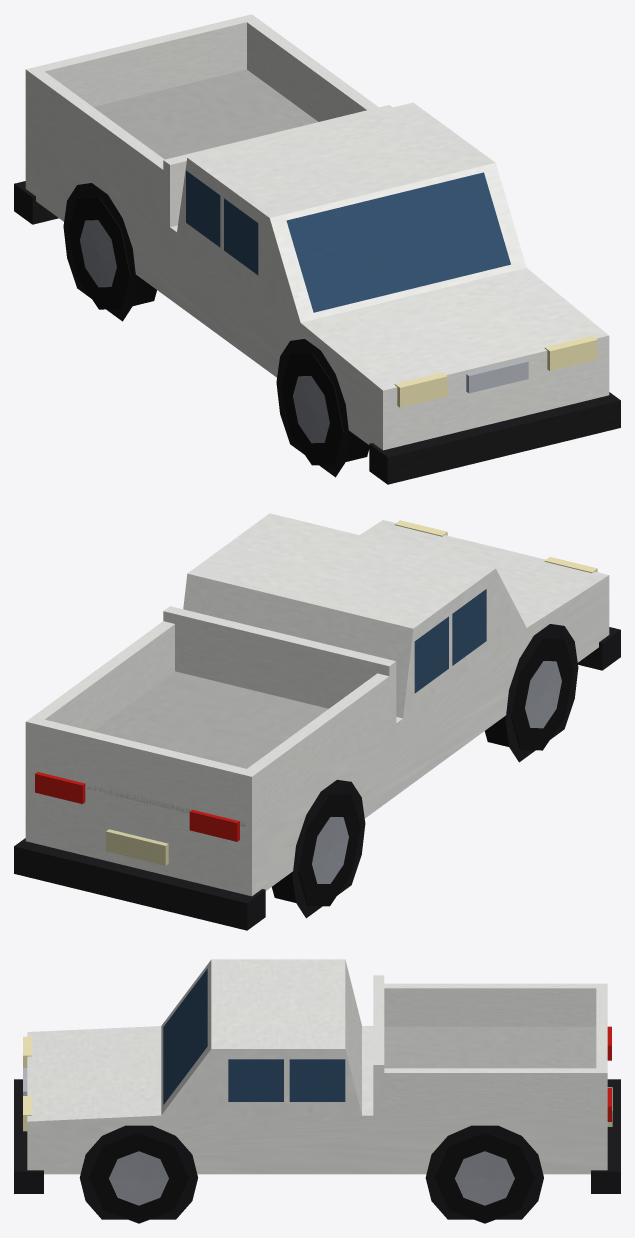
Rendered from pickup-white-far.glb.
The picture shows the model from 3 angles, top to bottom: view 1: azimuth 30°, elevation 25°; view 2: azimuth 150°, elevation 25°; view 3: azimuth 270°, elevation 25°; orthographic projection. The views are drawn at different scales.
Visible parts, largest first — view 1: pickup-white-far; view 2: pickup-white-far; view 3: pickup-white-far.
Boxes of the visible parts, bbox=[...] form: pickup-white-far: bbox=[14, 14, 620, 484]; pickup-white-far: bbox=[14, 513, 620, 930]; pickup-white-far: bbox=[14, 959, 620, 1223].
Size of the model in its own units: 1.96 by 1.72 by 5.44.
1 material, 1 textured.
